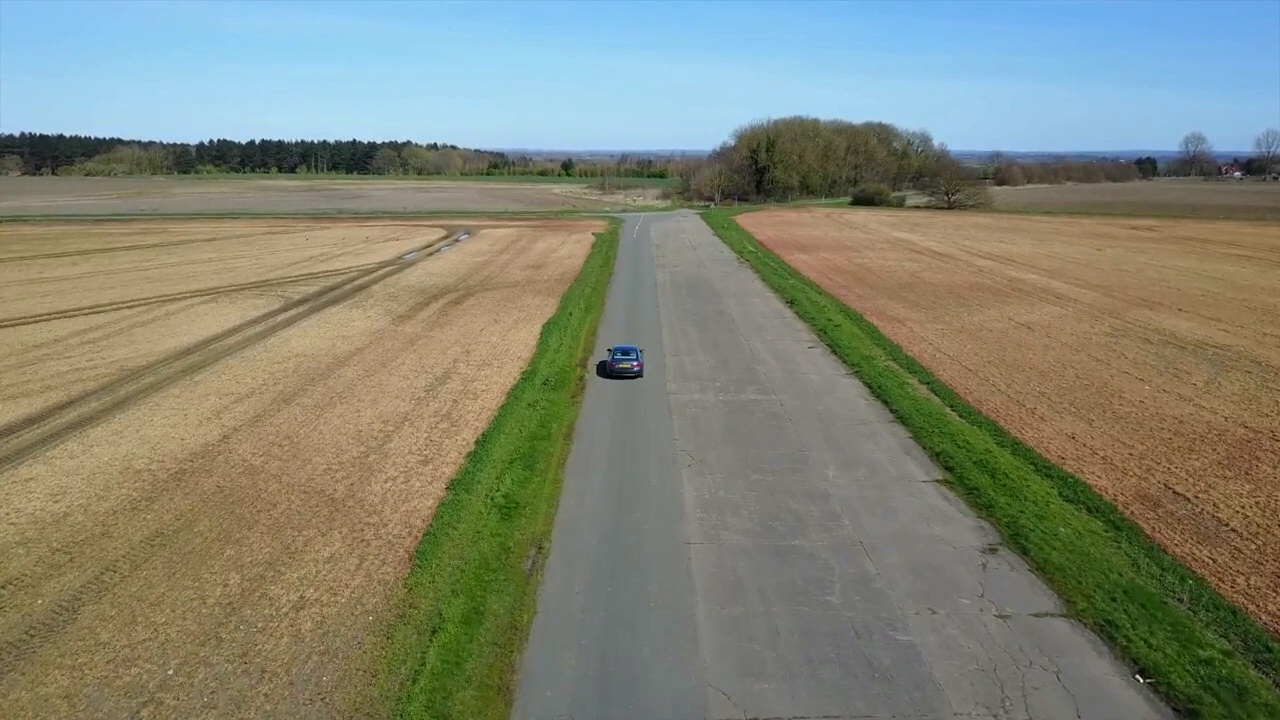araba: (599, 342, 643, 378)
